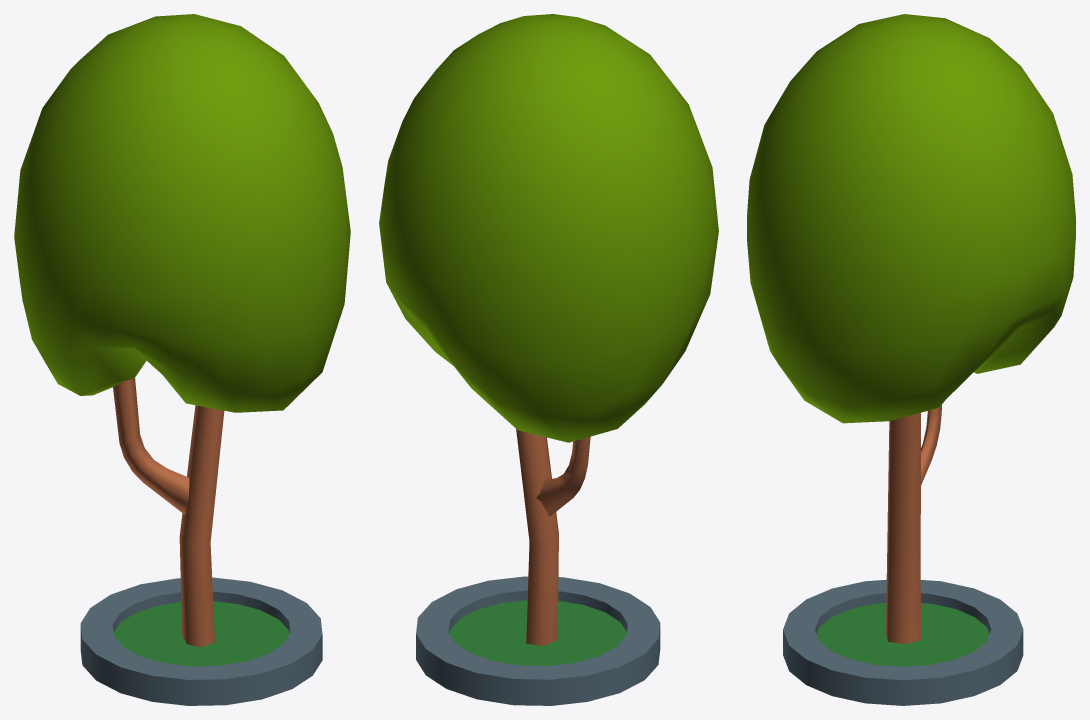
Rendered from tree_v2.fbx.
3 renders of one model, left to right at view 1: azimuth 30°, elevation 25°; view 2: azimuth 150°, elevation 25°; view 3: azimuth 270°, elevation 25°, orthographic. The views are drawn at different scales.
Parts seen in each view (by area): view 1: tree_v2; view 2: tree_v2; view 3: tree_v2.
Part boxes in pixels (left/top/right/bottom): tree_v2: left=14, top=14, right=350, bottom=705; tree_v2: left=379, top=14, right=718, bottom=705; tree_v2: left=747, top=14, right=1075, bottom=705.
Size of the model in its own units: 197 by 411 by 197.
